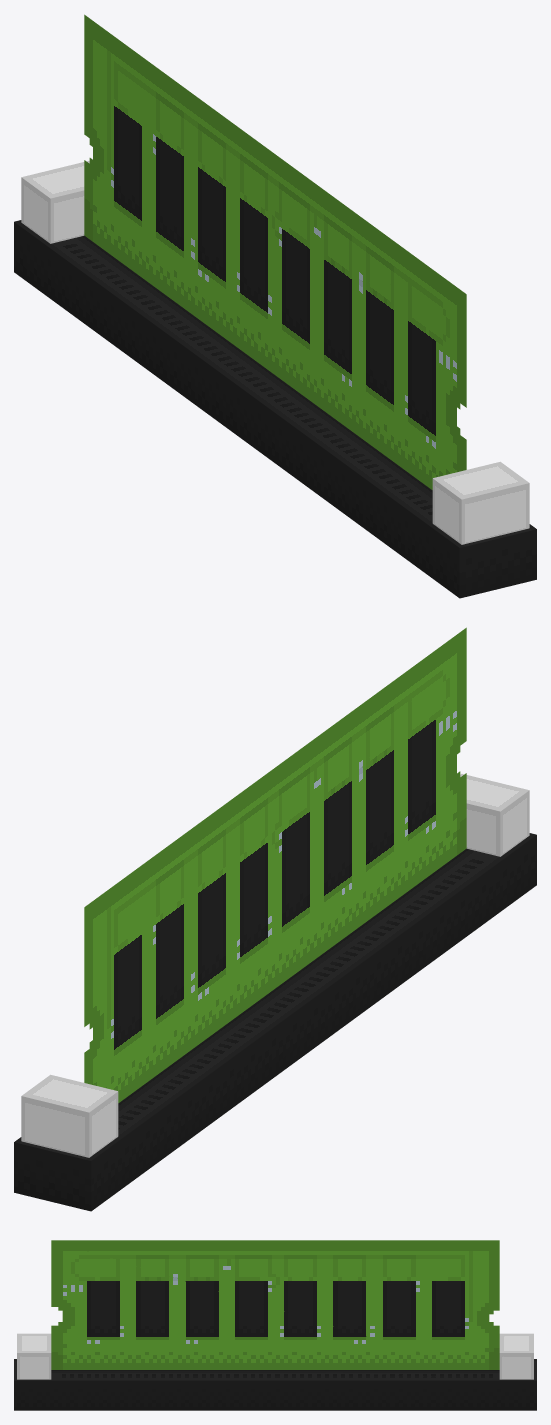
Rendered from memory.4bfe027c.glb.
The picture shows the model from 3 angles, top to bottom: view 1: azimuth 30°, elevation 25°; view 2: azimuth 150°, elevation 25°; view 3: azimuth 270°, elevation 25°; orthographic projection. The views are drawn at different scales.
Visible parts, largest first — view 1: Cube; view 2: Cube; view 3: Cube.
Boxes of the visible parts, <box> form: Cube: <box>14,14,536,598</box>; Cube: <box>14,627,536,1211</box>; Cube: <box>14,1240,536,1410</box>.
Size of the model in its own units: 0.8 by 2.69 by 8.
Materials: 1 (1 with a texture image).
